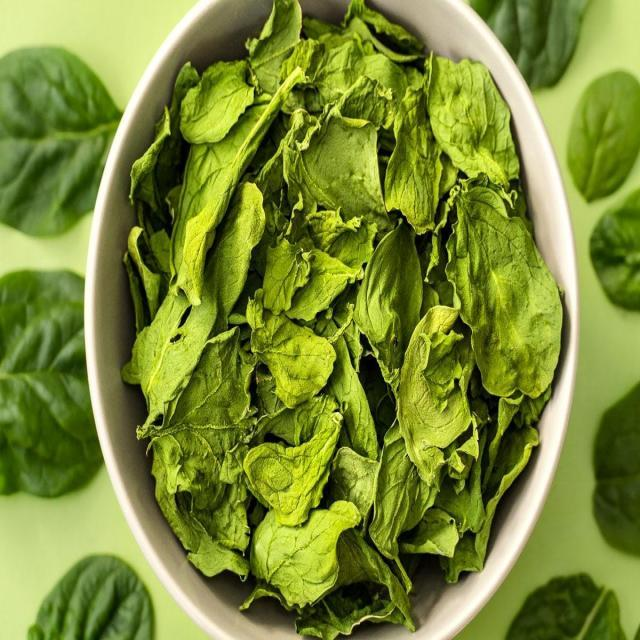Spinach: (123, 6, 566, 640)
